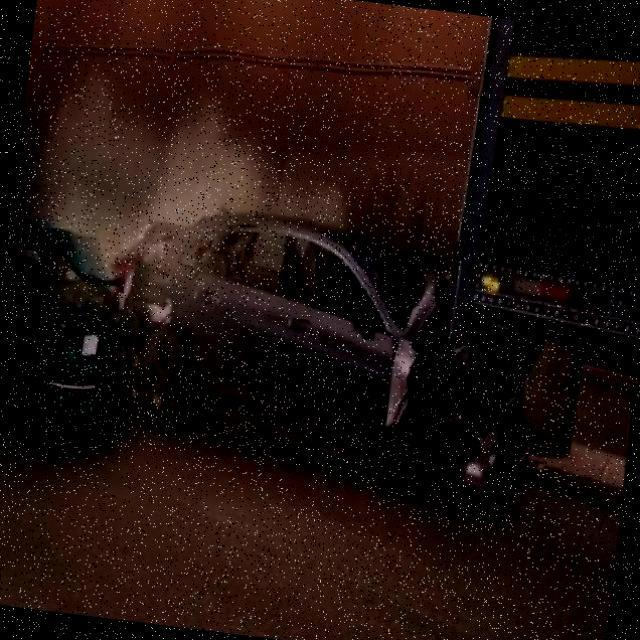accident: (0, 104, 494, 545)
